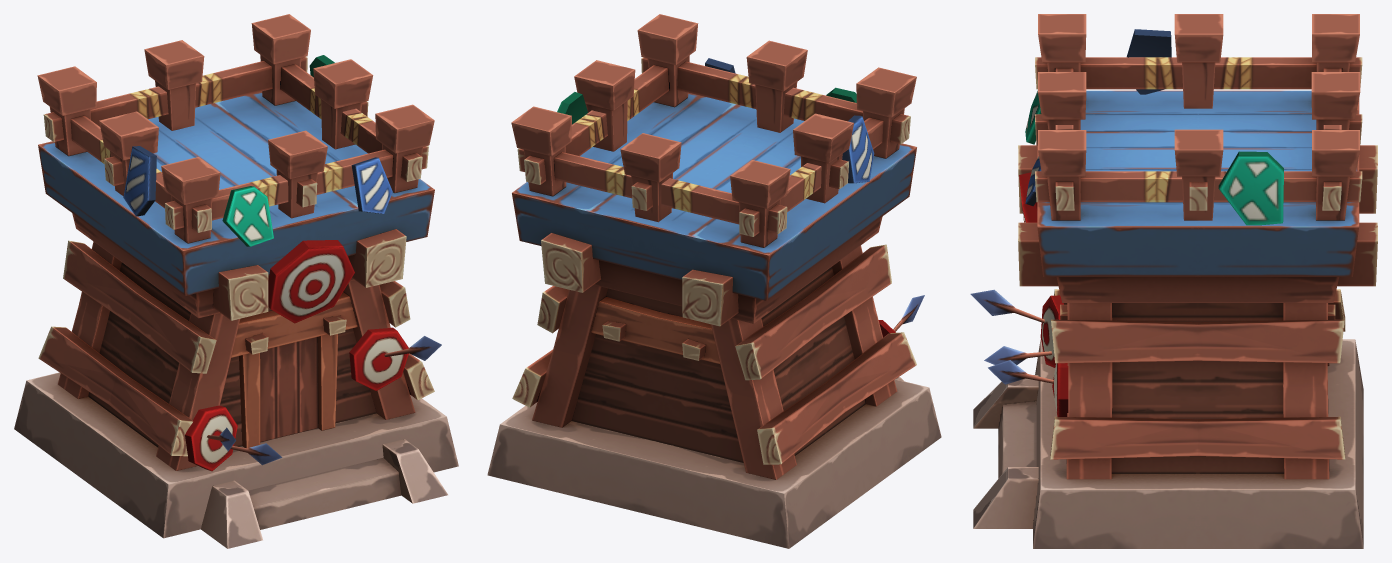
The model's file is building_23.FBX.
3 views of the same model, side by side, from view 1: azimuth 30°, elevation 25°; view 2: azimuth 150°, elevation 25°; view 3: azimuth 270°, elevation 25° (orthographic). The views are drawn at different scales.
Parts seen in each view (by area): view 1: Box002; view 2: Box002; view 3: Box002.
Boxes of the visible parts, box(x1,y1,x2,y2) form: Box002: box(14, 14, 458, 548); Box002: box(487, 14, 941, 548); Box002: box(970, 14, 1377, 548).
Bounding box in the file's own units: 477 × 540 × 515.
